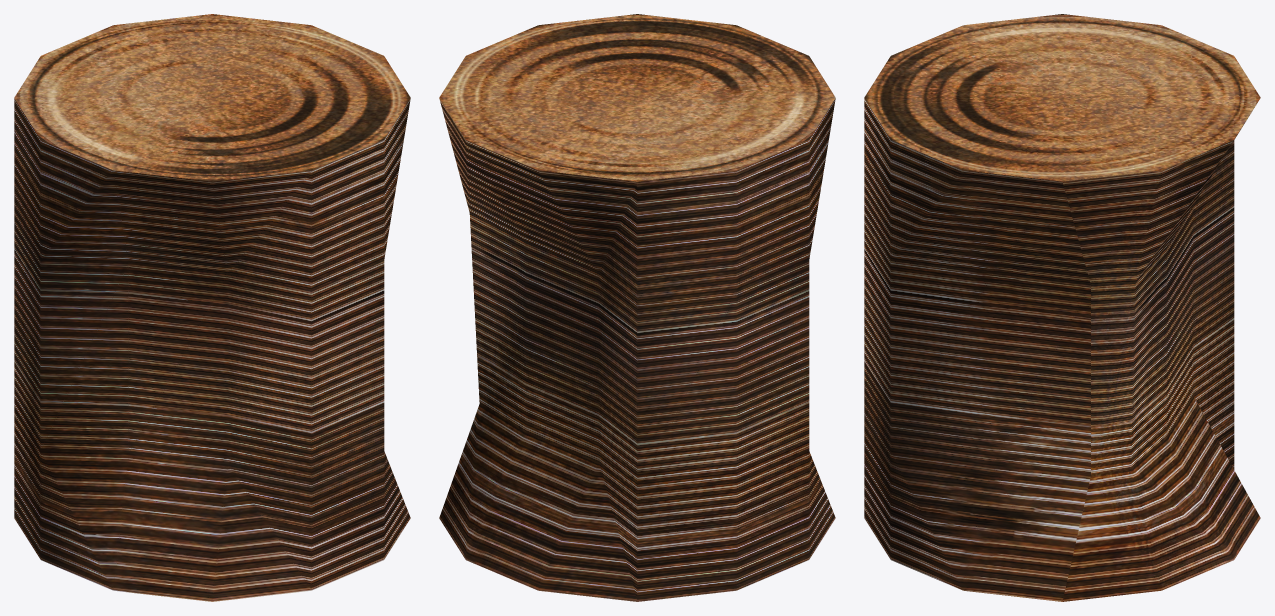
Rendered from TinCan4.FBX.
3 renders of one model, left to right at view 1: azimuth 30°, elevation 25°; view 2: azimuth 150°, elevation 25°; view 3: azimuth 270°, elevation 25°, orthographic.
Visible parts, largest first — view 1: TinCan4; view 2: TinCan4; view 3: TinCan4.
Part boxes in pixels (x1,y1,x2,y2): TinCan4: (14,14,410,601); TinCan4: (439,14,835,601); TinCan4: (864,14,1260,601).
Size of the model in its own units: 0.0956 by 0.1118 by 0.0956.
